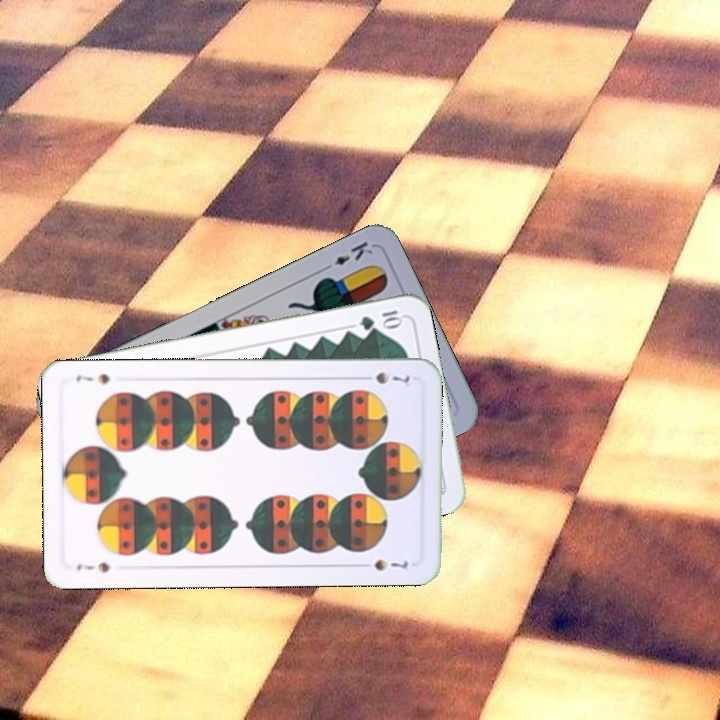EK: (318, 237, 376, 274)
G10: (356, 306, 405, 333)
S7: (356, 368, 413, 387), (72, 558, 113, 575)
